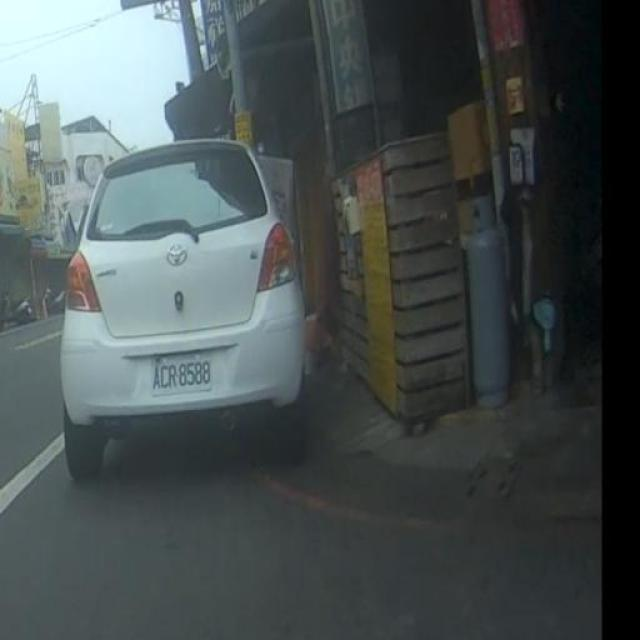Legalparking: (41, 105, 326, 543)
